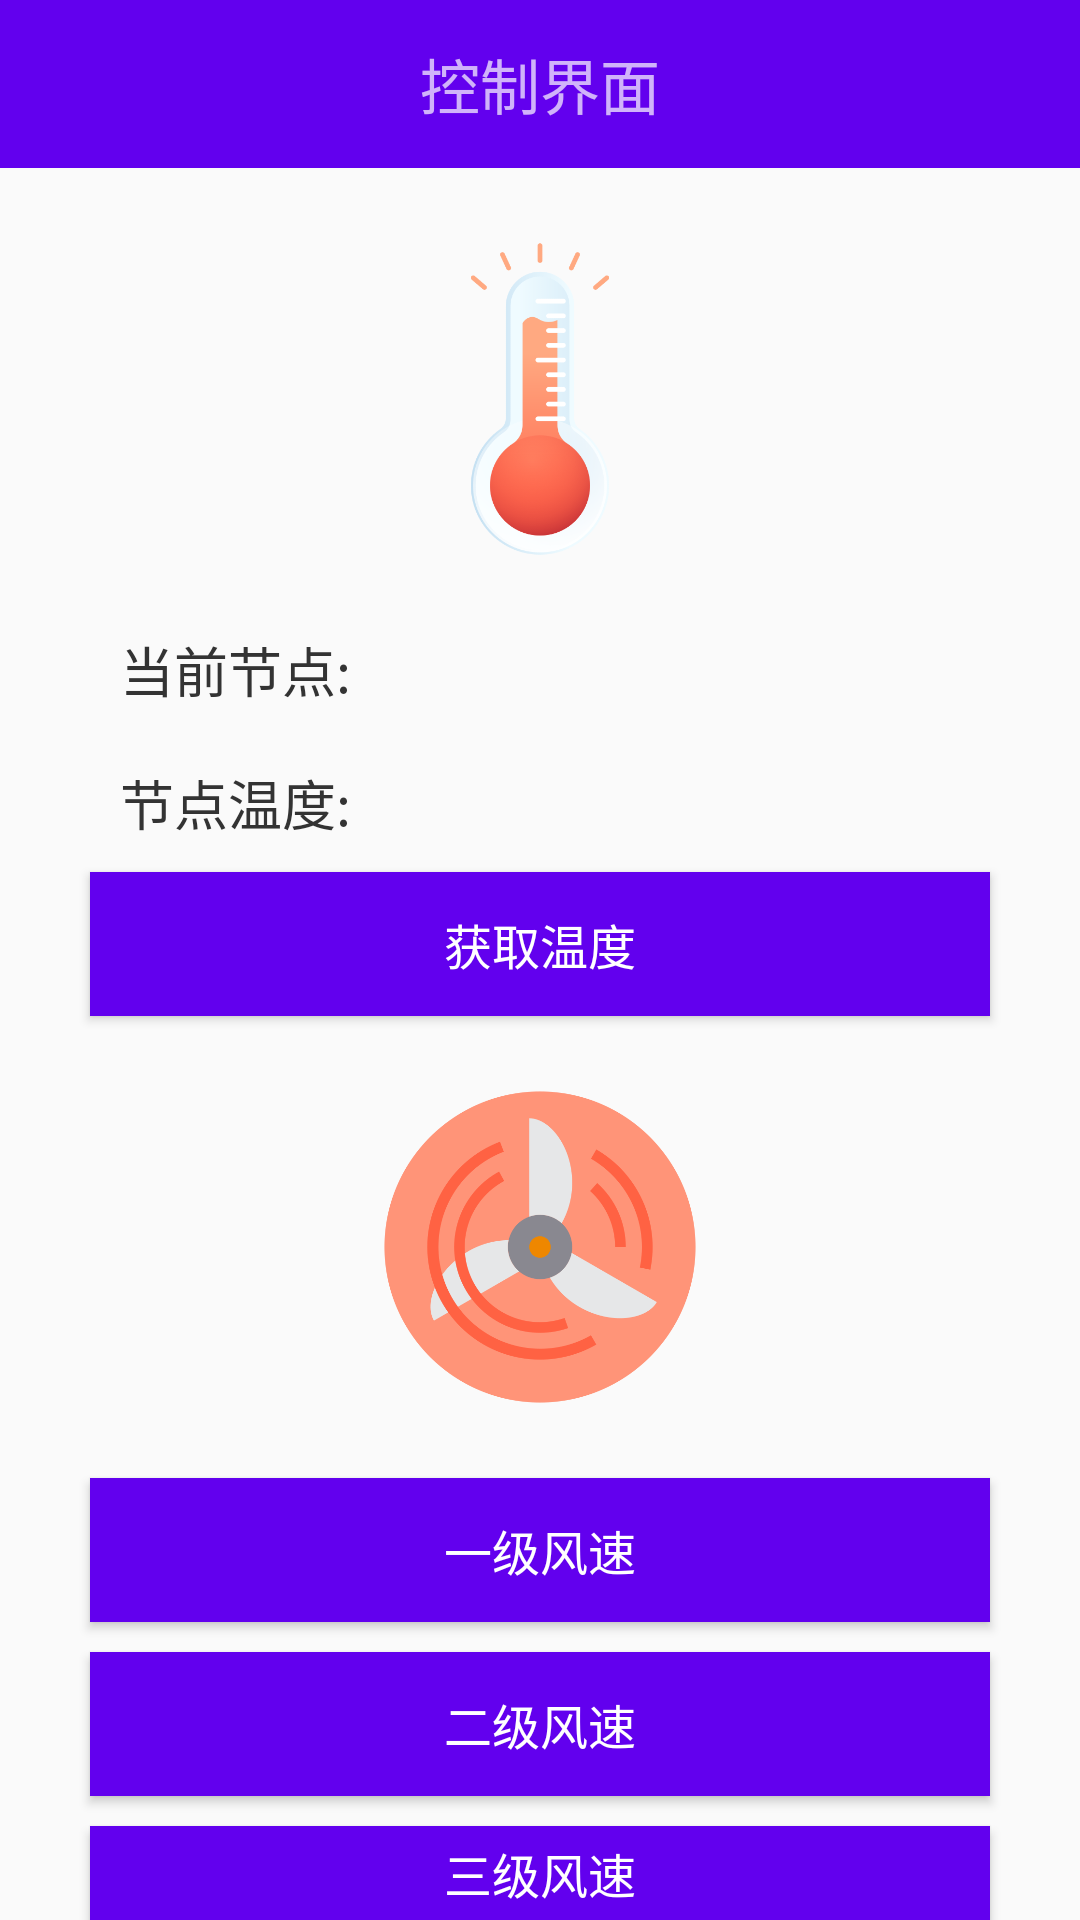

Point at icon controls on the screen. Image size 1080x1920, points as point (x, y).
fan: point (540, 1247)
tem: point (540, 398)
